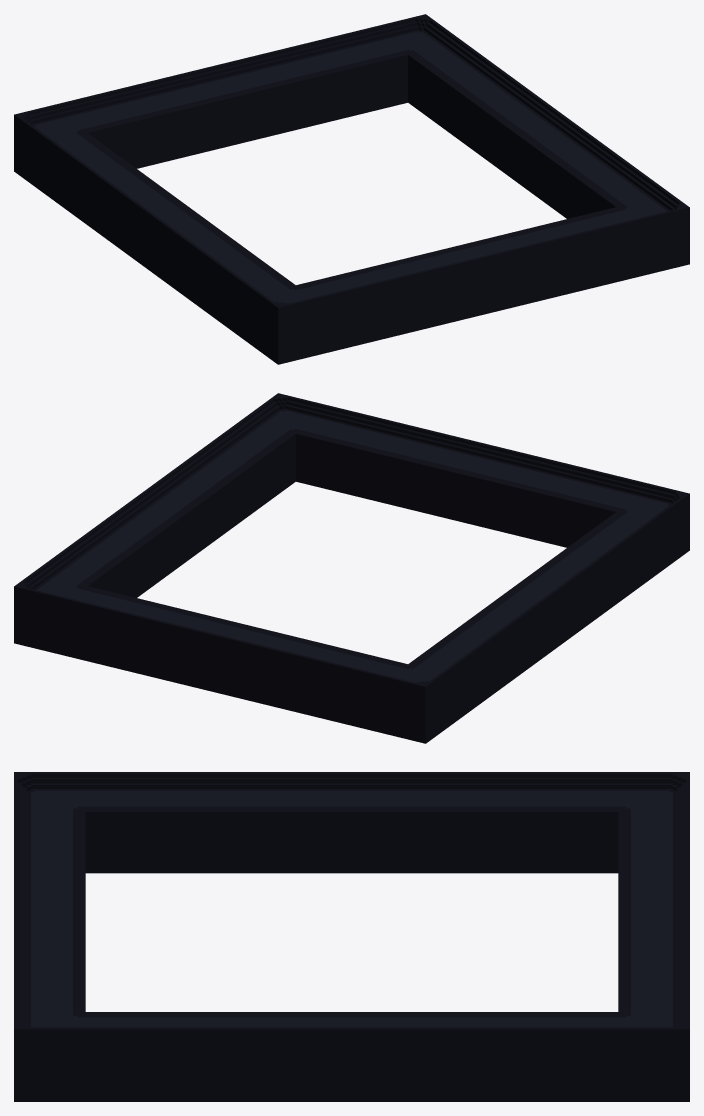
The model's file is BackgroundOutline.obj.
The picture shows the model from 3 angles, top to bottom: view 1: azimuth 30°, elevation 25°; view 2: azimuth 150°, elevation 25°; view 3: azimuth 270°, elevation 25°; orthographic projection. The views are drawn at different scales.
Bounding box in the file's own units: 14.4 × 1.9 × 16.
Materials: 1 (1 with a texture image).
